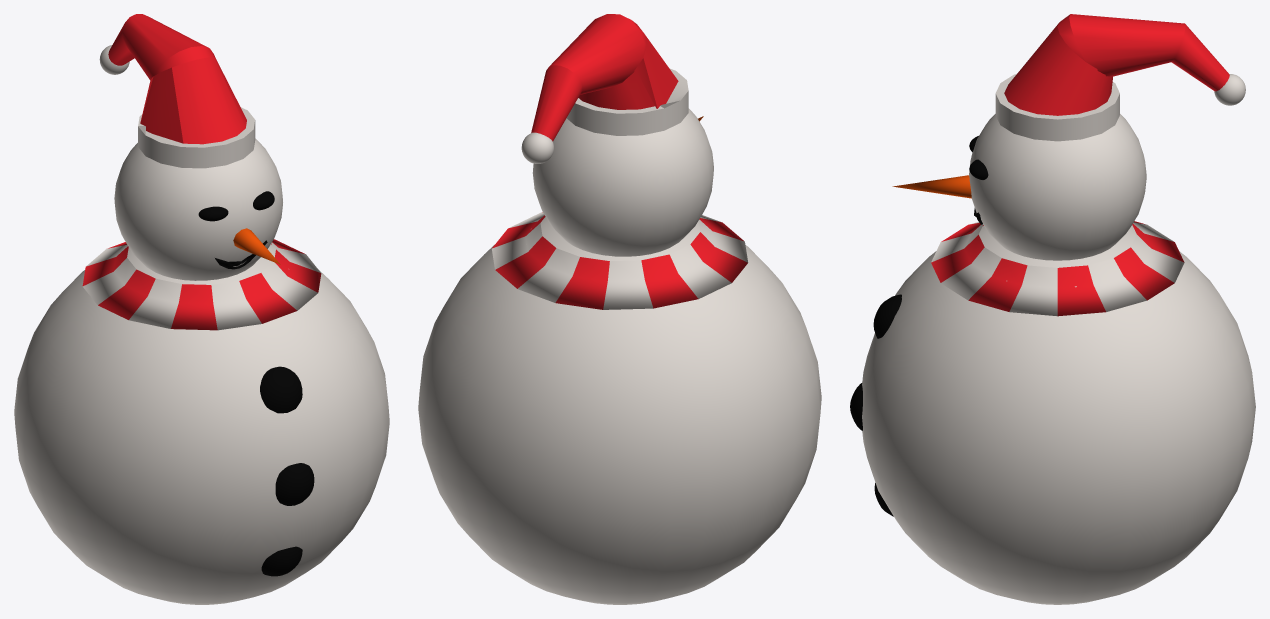
File: snoweric.glb
3 renders of one model, left to right at view 1: azimuth 30°, elevation 25°; view 2: azimuth 150°, elevation 25°; view 3: azimuth 270°, elevation 25°, orthographic. The views are drawn at different scales.
Parts seen in each view (by area): view 1: Esfera, Esfera.001, Círculo.001, Círculo.002, Esfera.003, Esfera.002, Esfera.004, Cono; view 2: Esfera, Esfera.001, Círculo.001, Círculo.002; view 3: Esfera, Esfera.001, Círculo.001, Círculo.002, Cono, Esfera.003.
Part boxes in pixels (box(x1,y1,x2,y2)): Esfera: box(14, 244, 389, 604); Esfera.001: box(114, 138, 282, 280); Círculo.001: box(99, 14, 255, 168); Círculo.002: box(82, 239, 321, 330); Esfera.003: box(260, 366, 302, 413); Esfera.002: box(275, 463, 314, 505); Esfera.004: box(261, 546, 302, 576); Cono: box(233, 228, 280, 264); Esfera: box(418, 217, 821, 604); Esfera.001: box(532, 108, 713, 256); Círculo.001: box(521, 14, 688, 163); Círculo.002: box(492, 212, 748, 309); Esfera: box(862, 225, 1255, 604); Esfera.001: box(969, 114, 1146, 260); Círculo.001: box(995, 14, 1245, 141); Círculo.002: box(931, 221, 1184, 316); Cono: box(892, 175, 971, 198); Esfera.003: box(873, 294, 901, 338).
Bounding box in the file's own units: 3.94 × 6.22 × 4.04.
